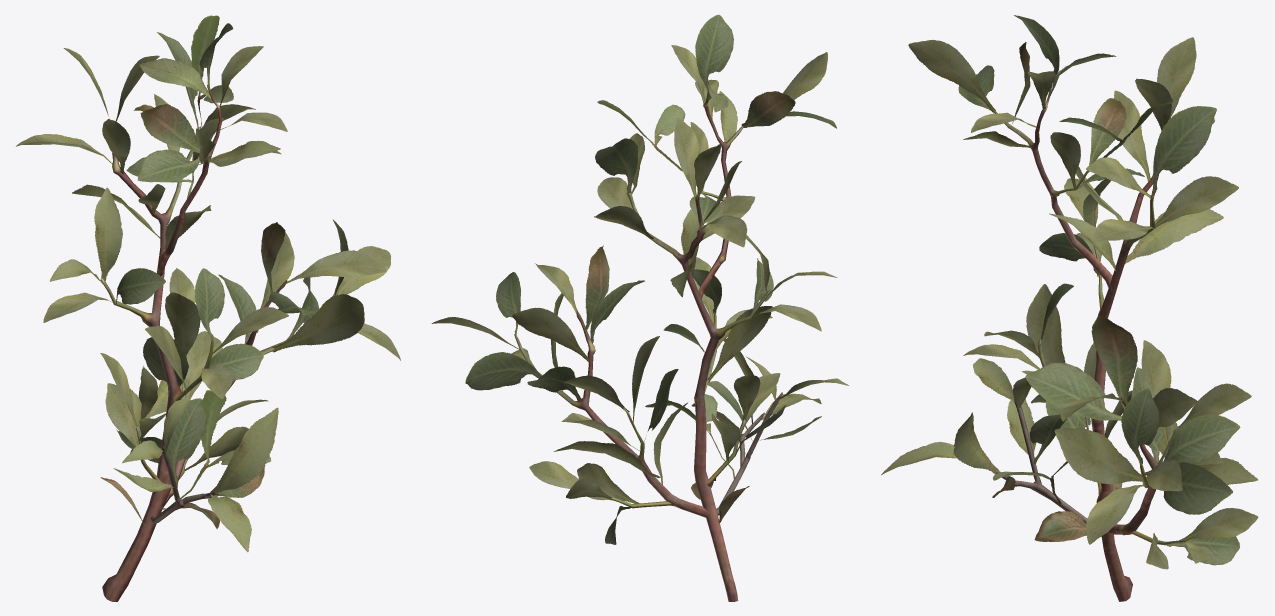
The picture shows the model from 3 angles, left to right: view 1: azimuth 30°, elevation 25°; view 2: azimuth 150°, elevation 25°; view 3: azimuth 270°, elevation 25°; orthographic projection. The views are drawn at different scales.
Parts seen in each view (by area): view 1: shrub_04__c_lod0; view 2: shrub_04__c_lod0; view 3: shrub_04__c_lod0.
Boxes of the visible parts, left/top/right/bottom form: shrub_04__c_lod0: left=16, top=15, right=400, bottom=601; shrub_04__c_lod0: left=431, top=14, right=848, bottom=601; shrub_04__c_lod0: left=881, top=15, right=1258, bottom=601.
Bounding box in the file's own units: 0.1062 × 0.1525 × 0.0849.
Materials: 1 (1 with a texture image).
